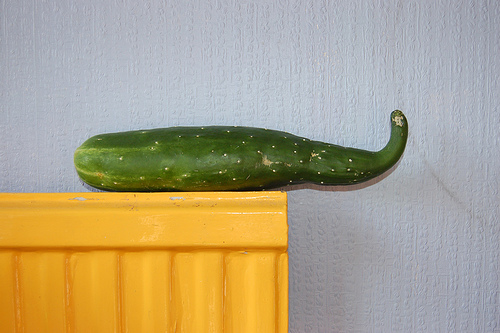cucumber: (72, 109, 410, 191)
